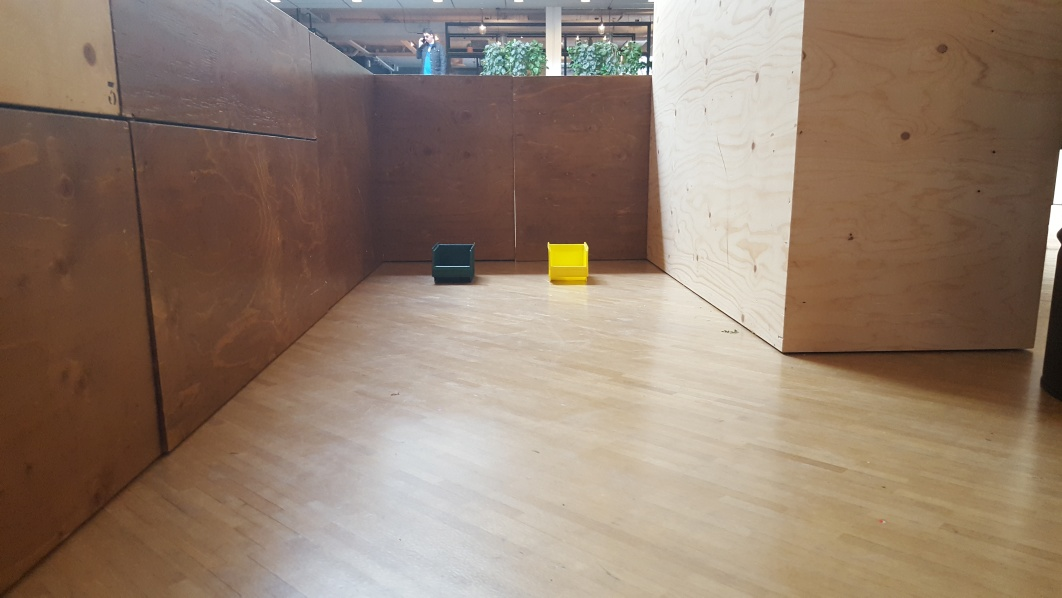tray: (544, 238, 592, 284), (431, 240, 474, 287)
